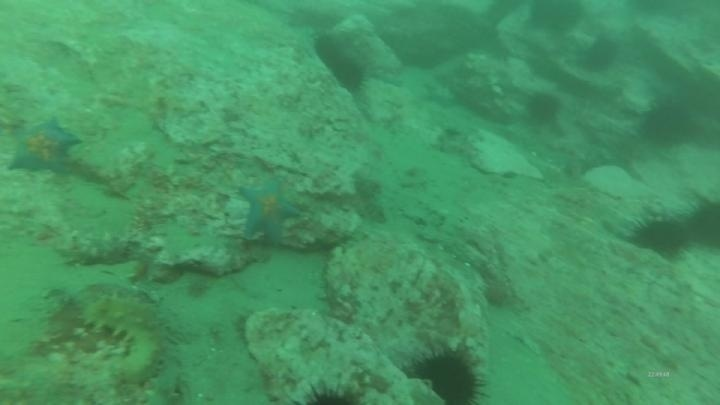echinus: (410, 344, 487, 405), (639, 98, 698, 149), (628, 213, 691, 260), (292, 372, 370, 405), (525, 1, 587, 36), (685, 194, 720, 252), (578, 35, 620, 75), (327, 55, 368, 94), (523, 89, 563, 127), (311, 33, 345, 70)
holothurian: (78, 292, 167, 386), (144, 341, 186, 405)
starfish: (4, 116, 83, 177), (236, 178, 302, 245)
